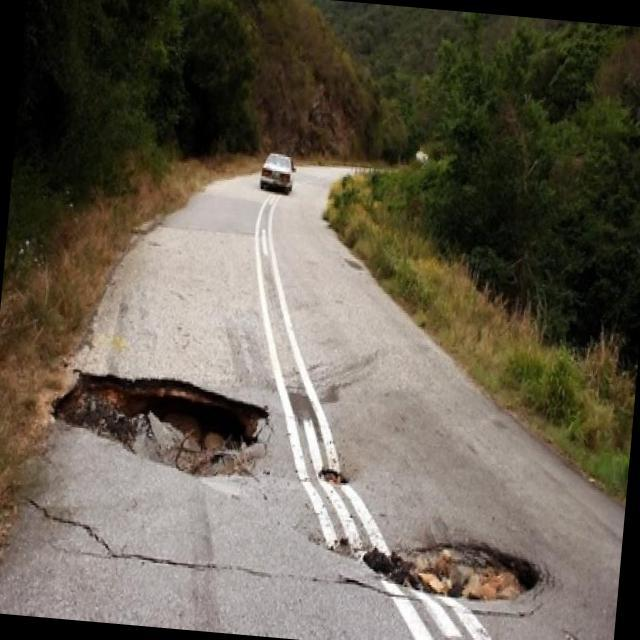Pothole: (253, 197, 524, 640), (53, 371, 272, 497), (27, 499, 271, 577), (380, 579, 431, 640)
